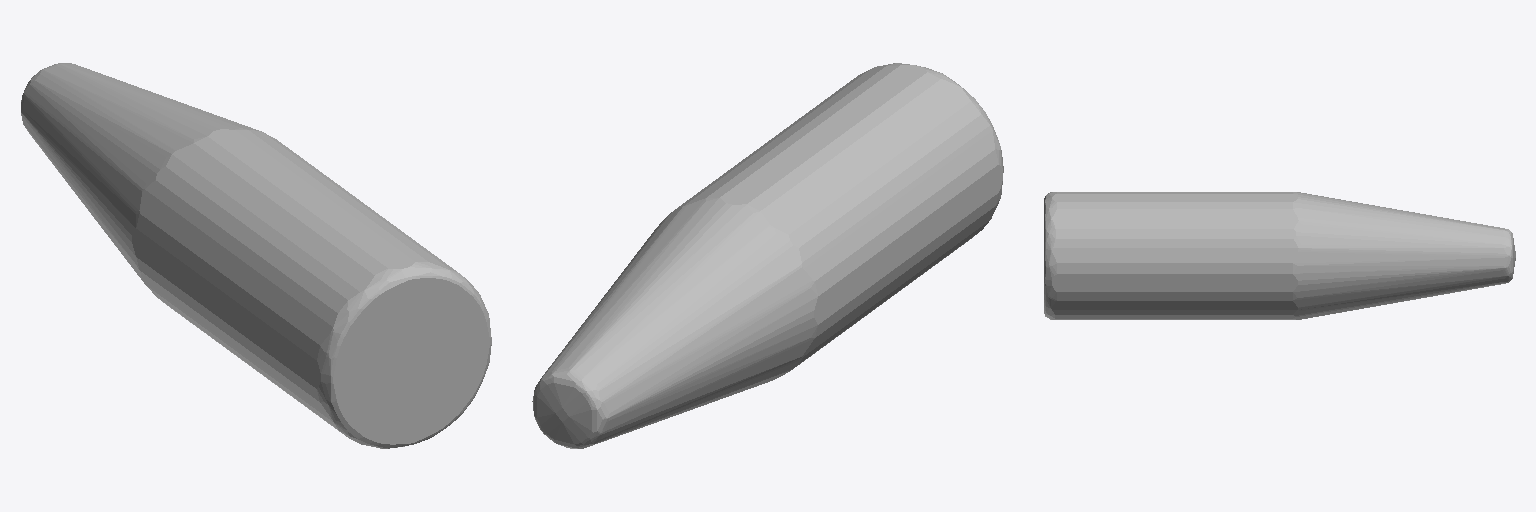
The robot description file, URDF, robot "root":
<?xml version="1.0"?>
<robot name="root">
  <link name="base_link">
    <visual>
      <origin xyz="0 0 0" rpy="0 0 0" />
      <geometry>
        <mesh filename="../meshes/unidex_core_bottle-48202d357e79315e45891653421dc140_012.obj" scale="1.0000E+00 1.0000E+00 1.0000E+00" />
      </geometry>
      <material name="">
        <color rgba="7.50E-01 7.50E-01 7.50E-01 1" />
      </material>
    </visual>
    <collision>
      <origin xyz="0 0 0" rpy="0 0 0" />
      <geometry>
        <mesh filename="../meshes/unidex_core_bottle-48202d357e79315e45891653421dc140_012.obj" scale="1.0000E+00 1.0000E+00 1.0000E+00" />
      </geometry>
    </collision>
  </link>
</robot>

--- Render facts (derived) ---
3 views of the same robot in one strip: view 1: azimuth 30°, elevation 25°; view 2: azimuth 150°, elevation 25°; view 3: azimuth 270°, elevation 25° (orthographic).
Model root with 1 links and 0 joints (none), rooted at base_link, posed every joint at zero.
Visible links, largest first — view 1: base_link; view 2: base_link; view 3: base_link.
Link boxes in pixels (x1,y1,x2,y2): base_link: (21, 63, 491, 448); base_link: (532, 63, 1003, 448); base_link: (1044, 192, 1515, 319).
Bounding box of the posed robot: 0.062 × 0.2281 × 0.062 m (x, y, z).
Meshes: 1 distinct files referenced, 1 mesh visuals loaded (1 OBJ).
